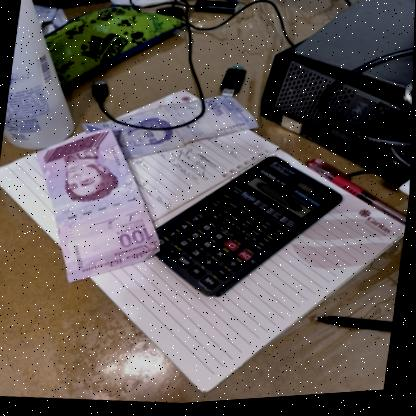one_hundred-front-vef: (19, 117, 179, 296)
